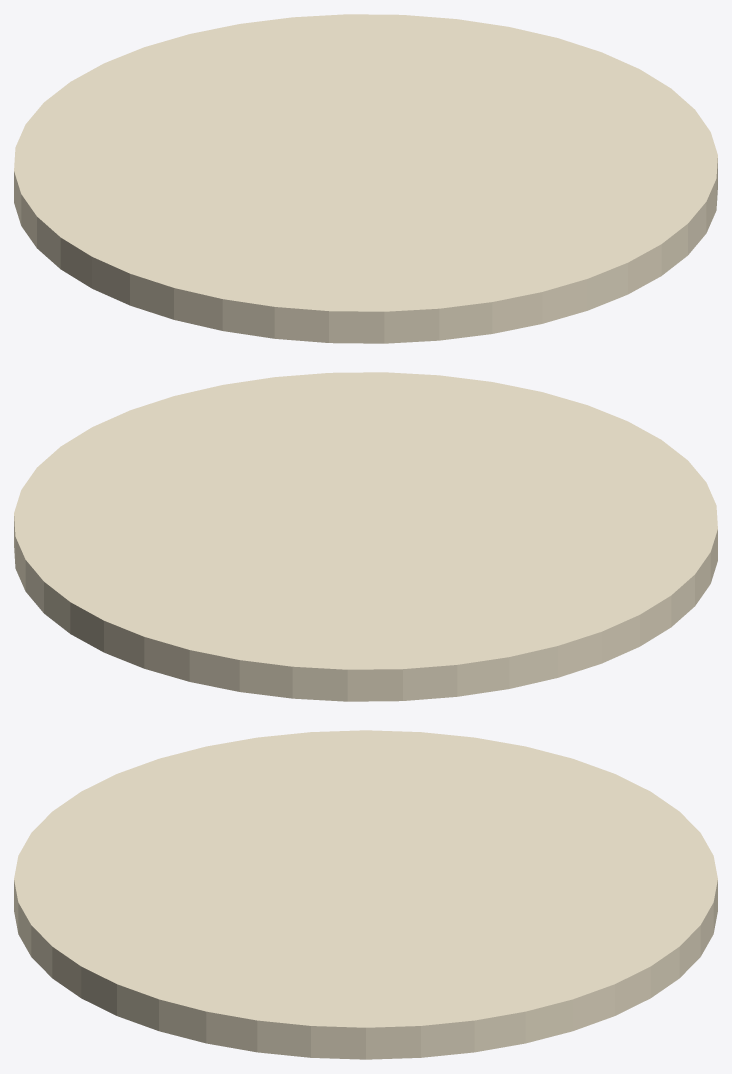
File: chao-recife.glb
3 renders of one model, top to bottom at view 1: azimuth 30°, elevation 25°; view 2: azimuth 150°, elevation 25°; view 3: azimuth 270°, elevation 25°, orthographic.
Visible parts, largest first — view 1: chao-recife; view 2: chao-recife; view 3: chao-recife.
Boxes of the visible parts, left/top/right/bottom form: chao-recife: left=14, top=14, right=717, bottom=343; chao-recife: left=14, top=372, right=717, bottom=701; chao-recife: left=14, top=730, right=717, bottom=1059.
Size of the model in its own units: 2 by 0.1 by 2.
